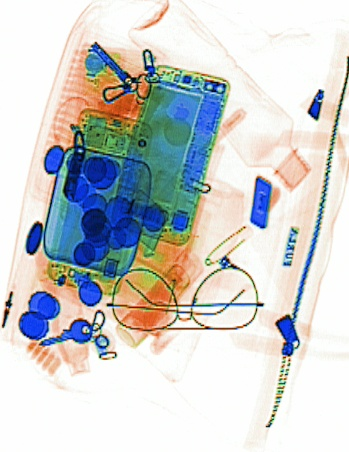pressure: (115, 242, 203, 348)
